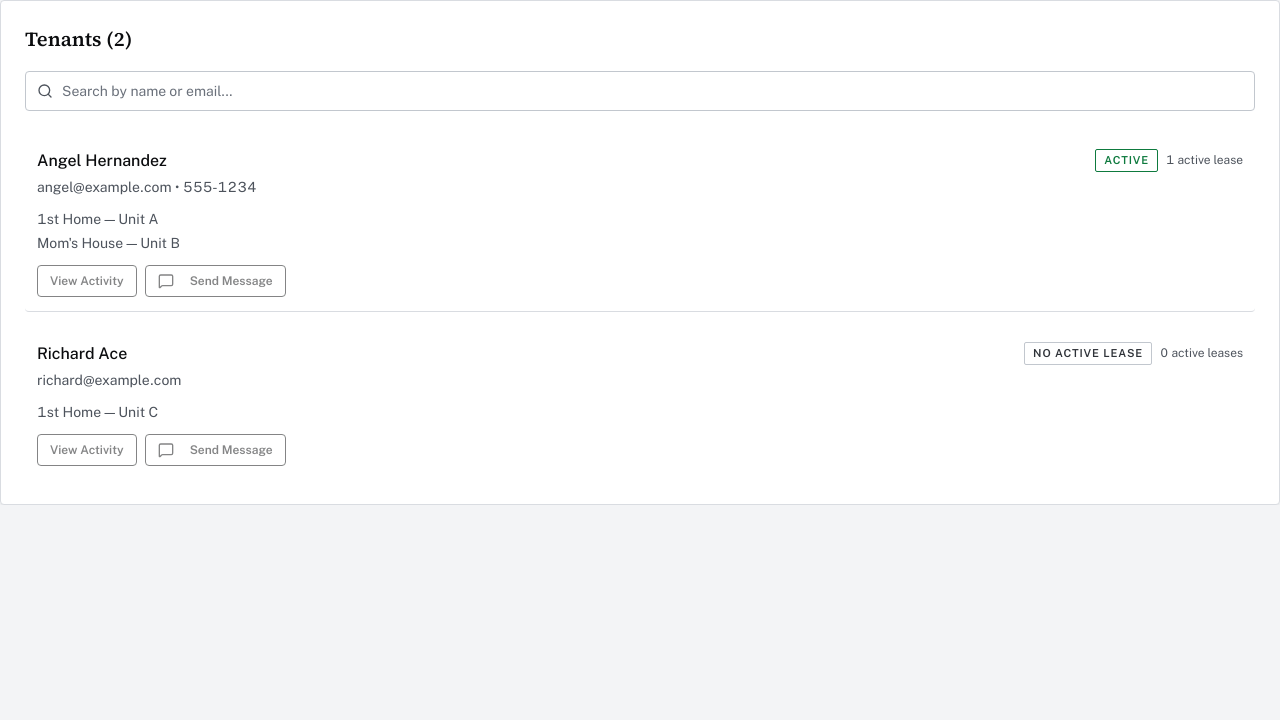
Test: TenantsSection › filters tenants by name with a case-insensitive search
The image size is (1280, 720).
Type "angel" into the field labelled "Search by name or email" at (640, 91), box [25,71,1255,111]
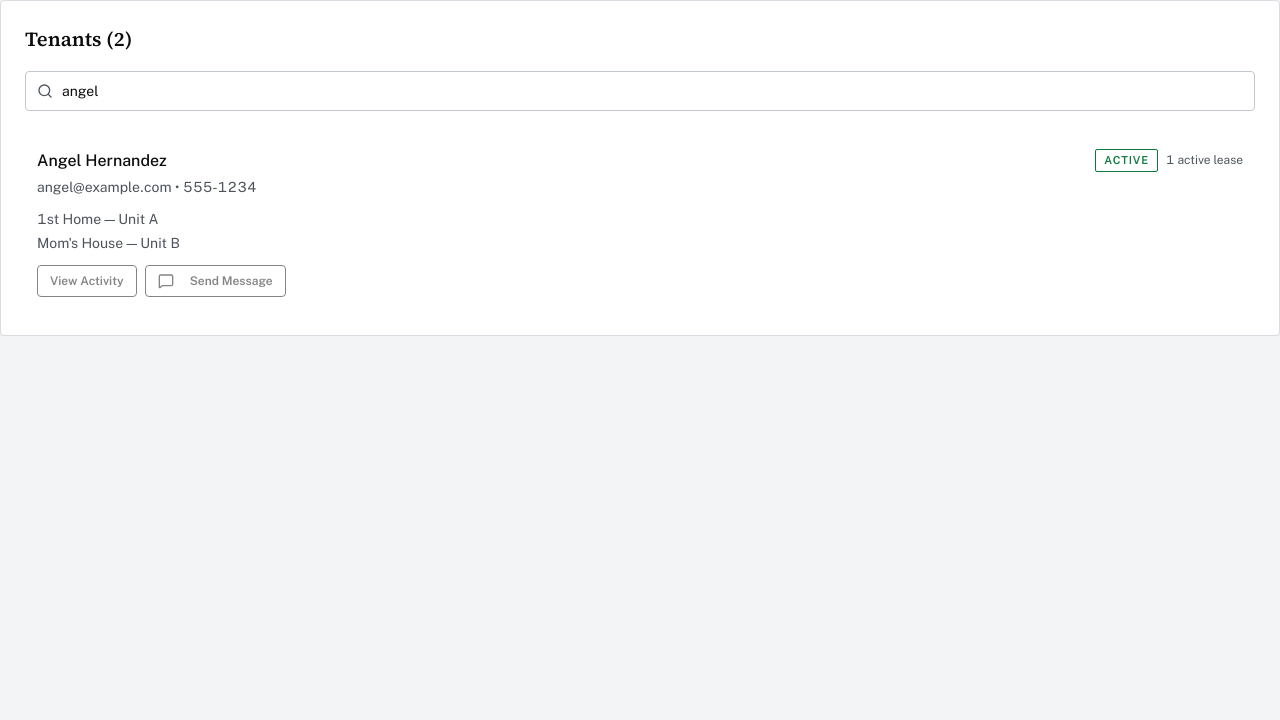
Expected: the text "Angel Hernandez" is shown, [37,151,167,170]
Now the text "Richard Ace" is gone
